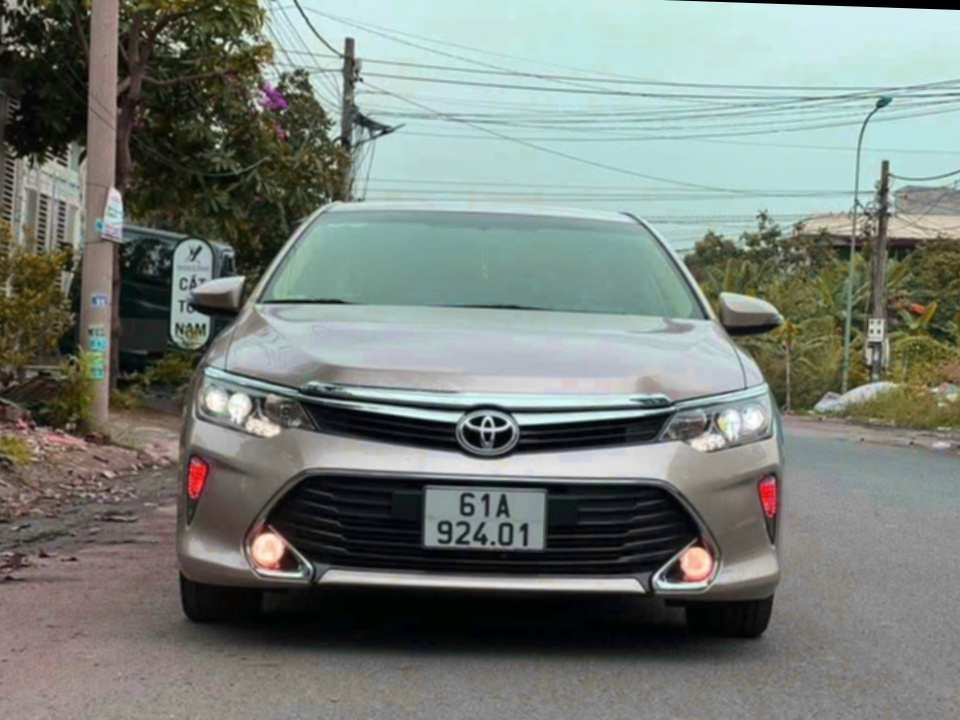Bien-so: (420, 484, 551, 552)
